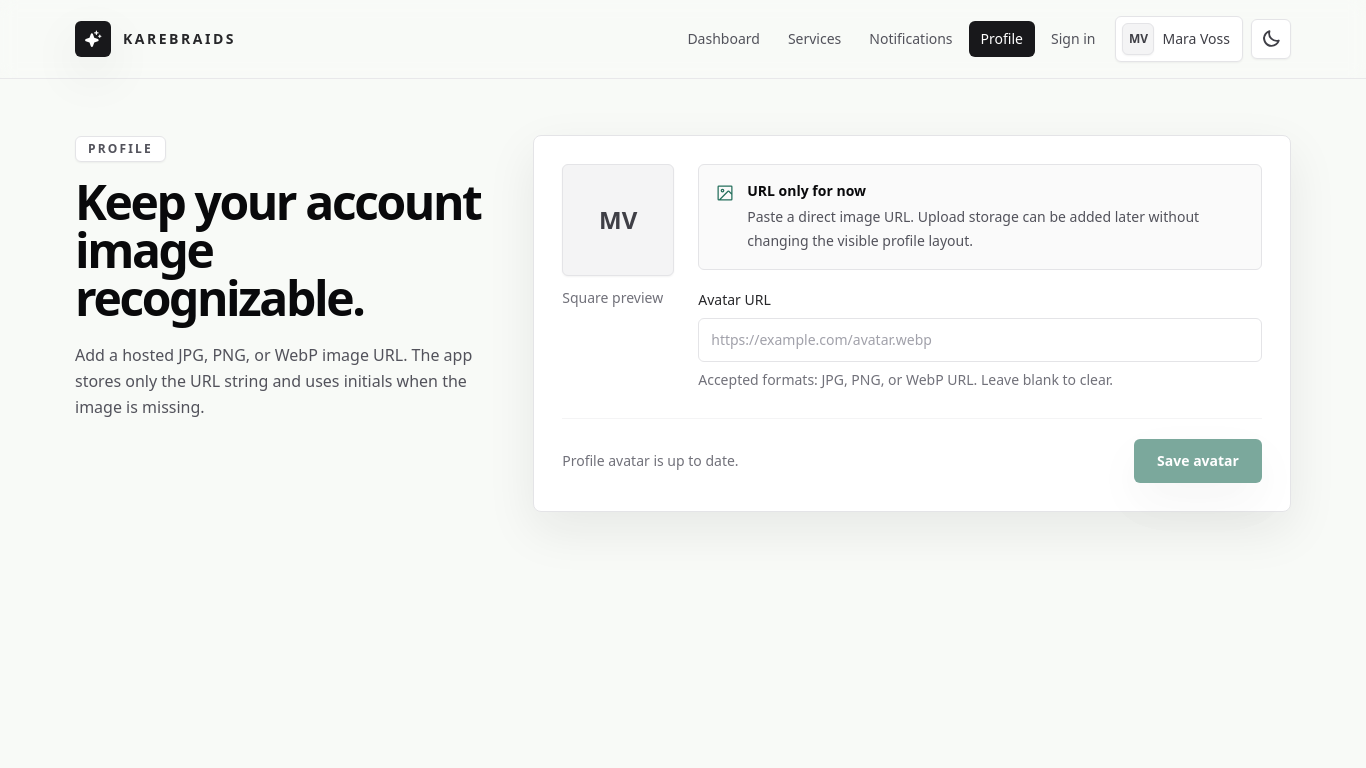
App › validates avatar URLs on the profile page
The image size is (1366, 768).
Type "https://cdn.example.test/avatar.gif" into the field labelled "Avatar URL" at [980, 340], box [698,318,1262,362]
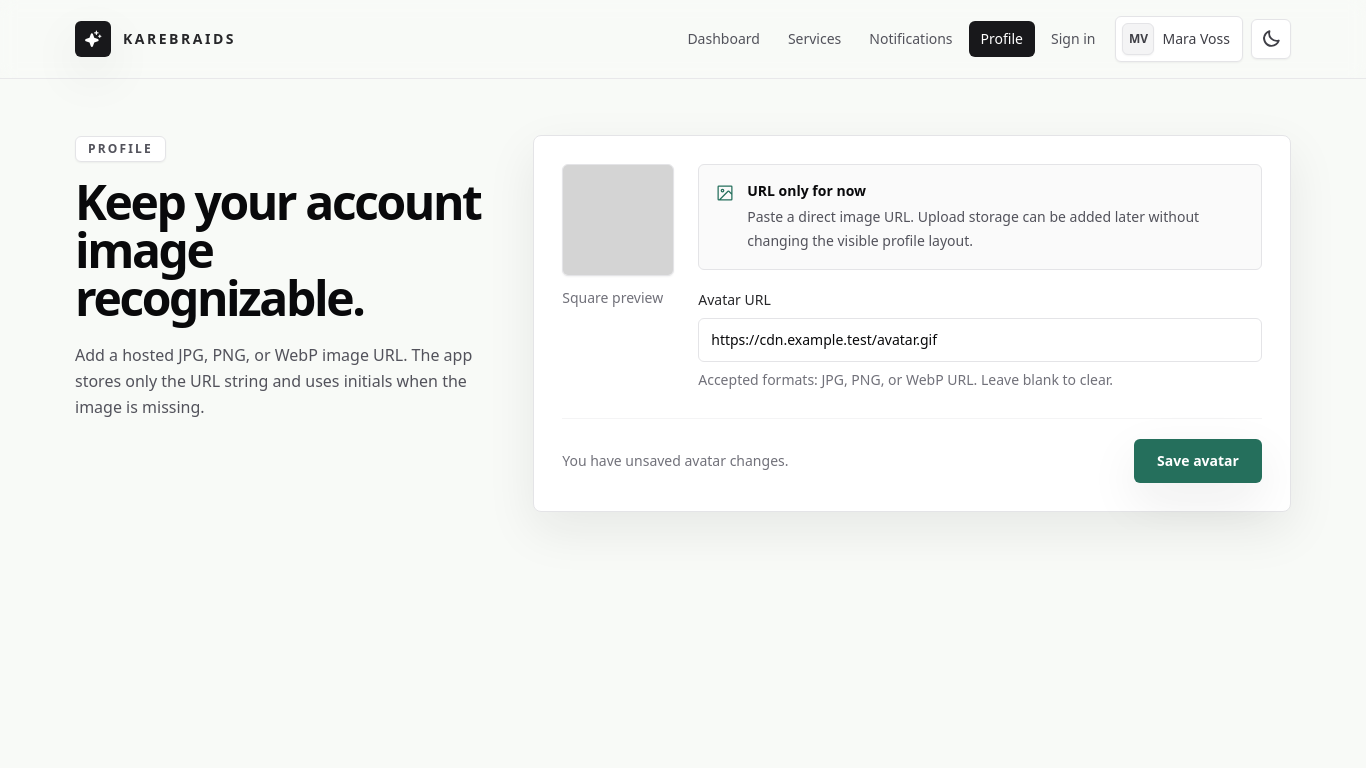
Click the button "Save avatar" at [1198, 461], box [1134,439,1262,483]
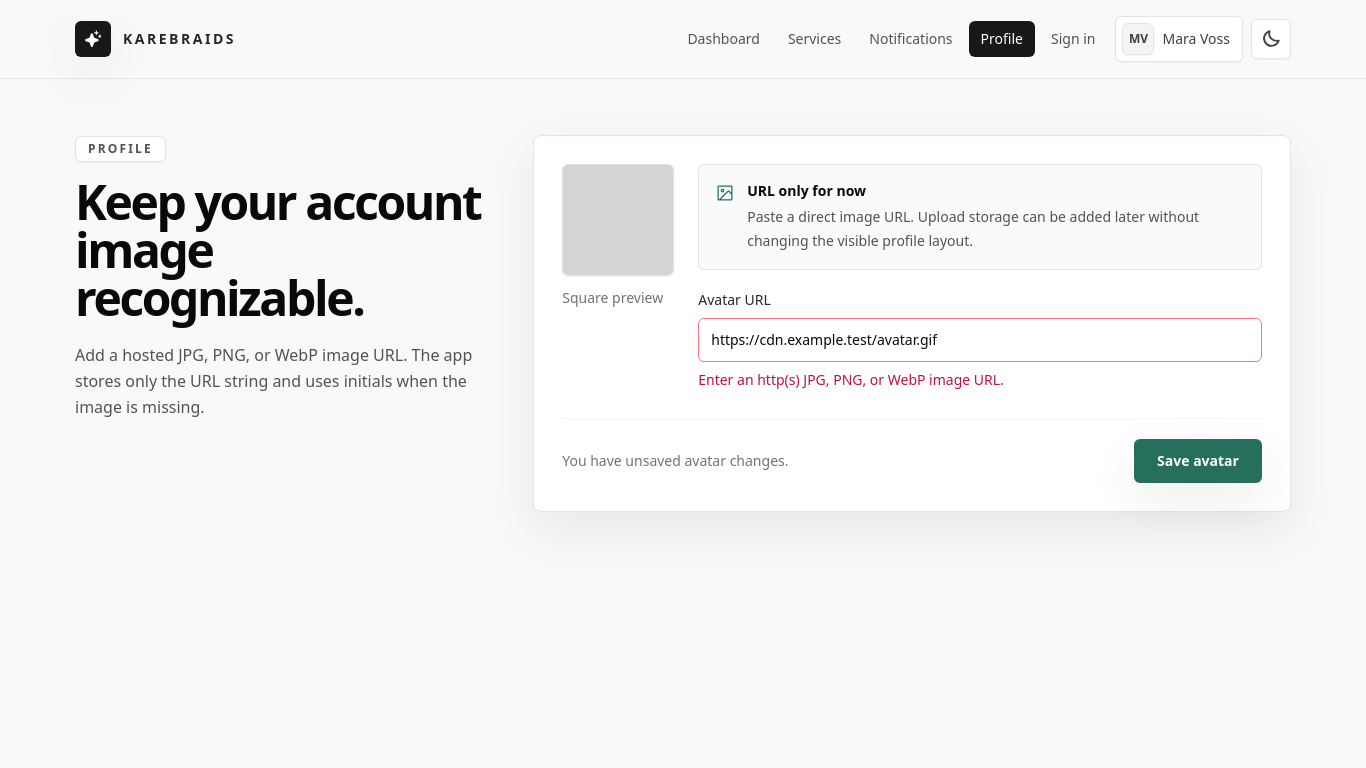
Result: the text "Enter an http(s) JPG, PNG, or WebP image URL." is shown at [698,370,1004,389]
